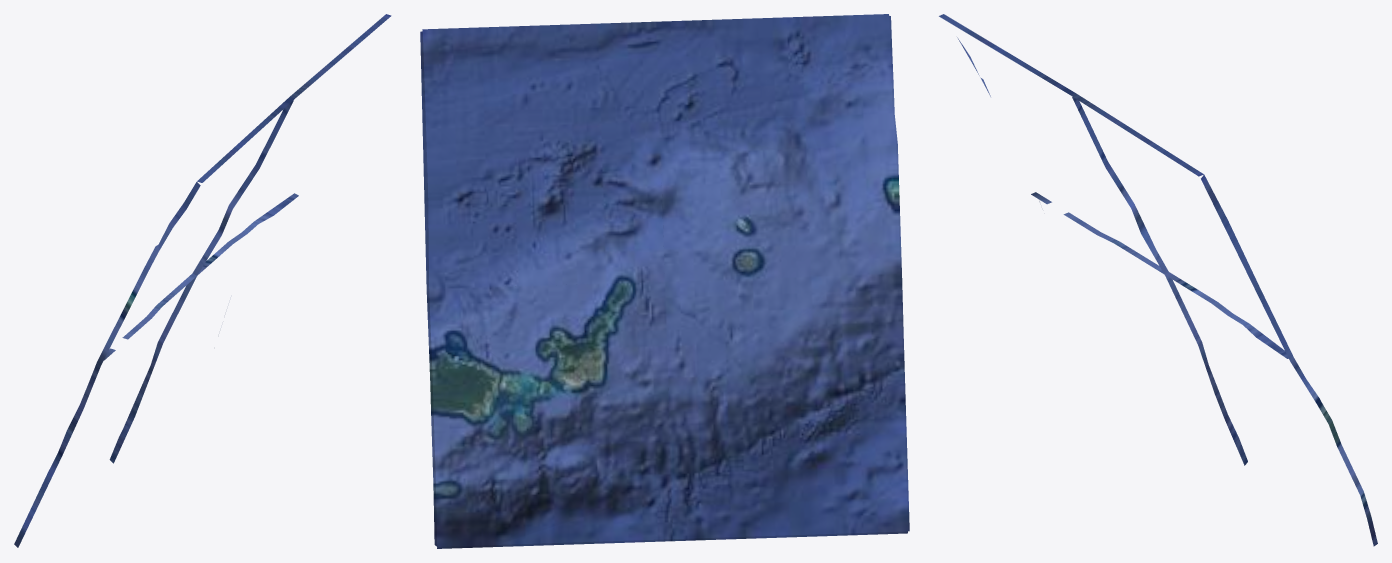
3 renders of one model, left to right at view 1: azimuth 30°, elevation 25°; view 2: azimuth 150°, elevation 25°; view 3: azimuth 270°, elevation 25°, orthographic. The views are drawn at different scales.
Bounding box in the file's own units: 156039 × 144215 × 135778.
1 material, 1 textured.
